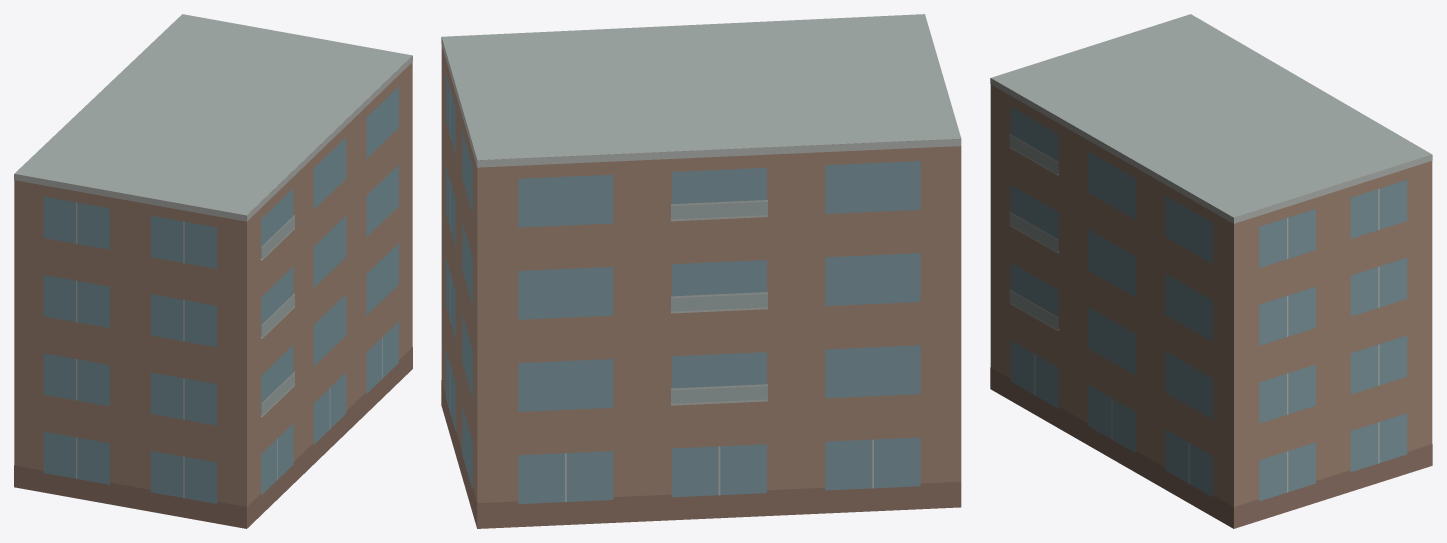
The model's file is survey-upis-32811874.glb.
The picture shows the model from 3 angles, left to right: view 1: azimuth 30°, elevation 25°; view 2: azimuth 150°, elevation 25°; view 3: azimuth 270°, elevation 25°; orthographic projection. The views are drawn at different scales.
Parts seen in each view (by area): view 1: survey-upis-32811874.tmp; view 2: survey-upis-32811874.tmp; view 3: survey-upis-32811874.tmp.
Boxes of the visible parts, box(x1,y1,x2,y2) form: survey-upis-32811874.tmp: box(14, 14, 412, 528); survey-upis-32811874.tmp: box(441, 14, 961, 528); survey-upis-32811874.tmp: box(990, 14, 1432, 528).
Bounding box in the file's own units: 17.13 × 12.2 × 15.71.
